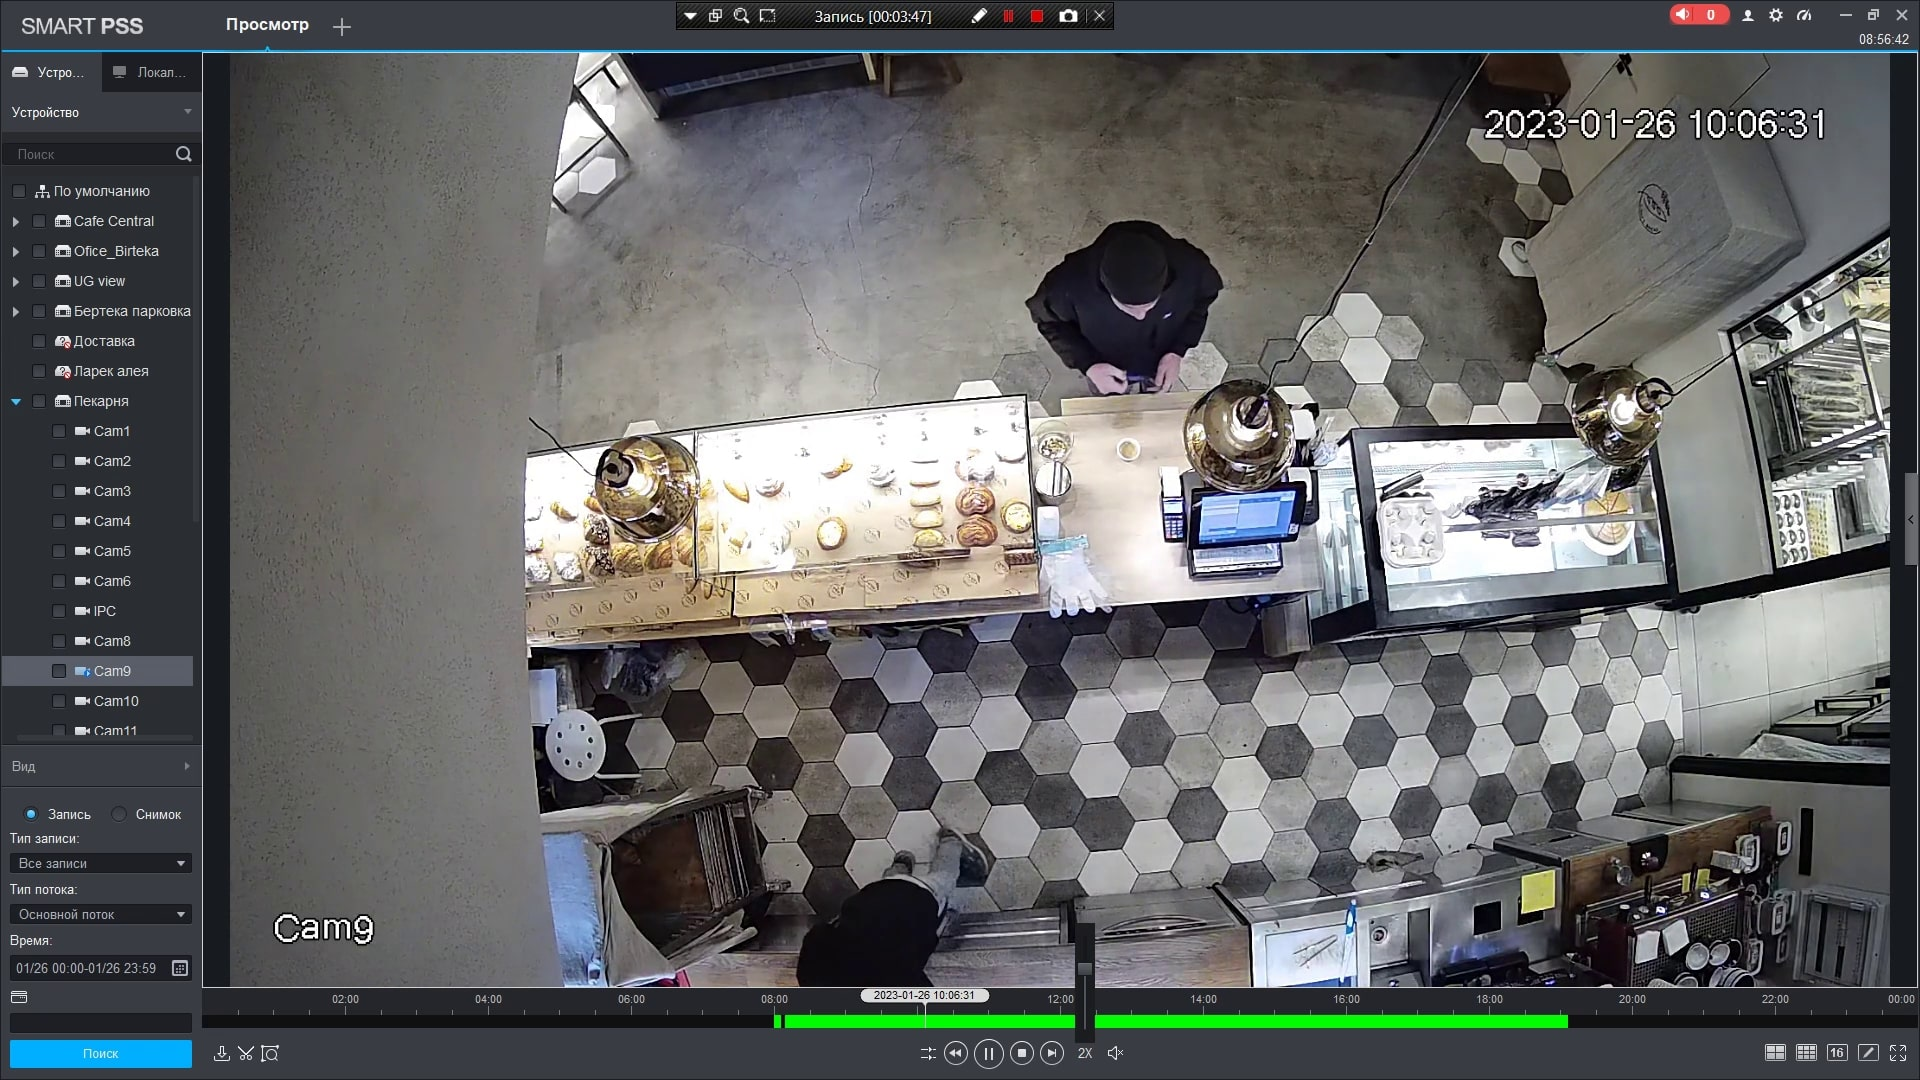barcounter: (530, 417, 1663, 630)
coffee: (1113, 431, 1150, 473)
person: (1022, 210, 1232, 388)
